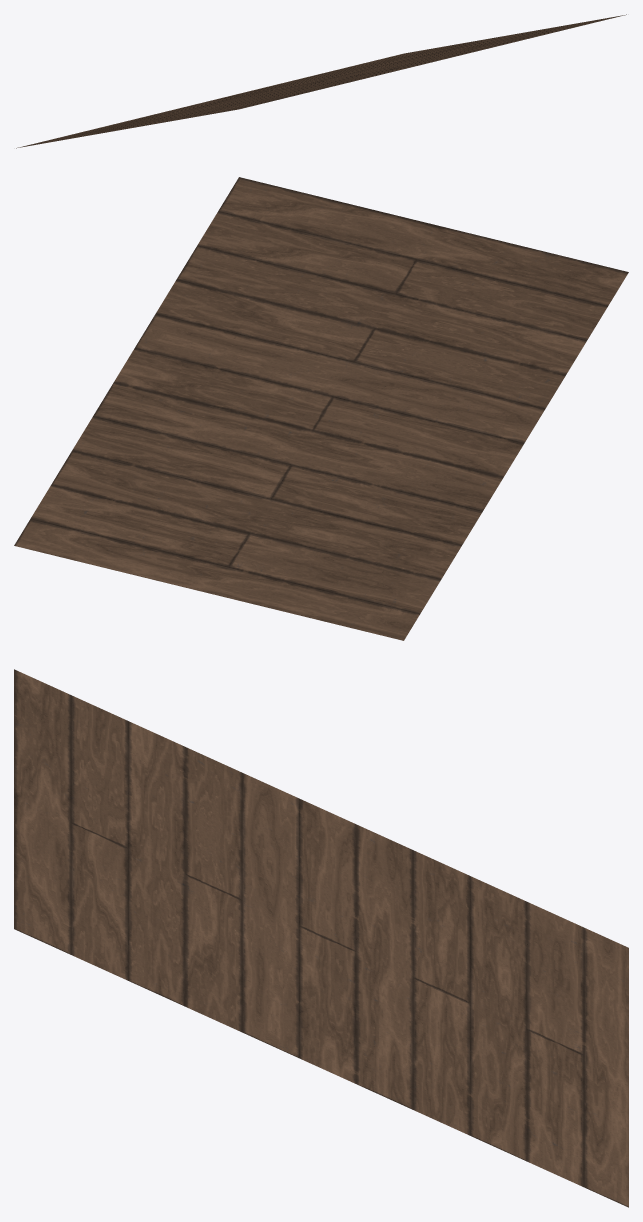
File: Roof_3mH_A_Ceilng.fbx
The picture shows the model from 3 angles, top to bottom: view 1: azimuth 30°, elevation 25°; view 2: azimuth 150°, elevation 25°; view 3: azimuth 270°, elevation 25°; orthographic projection. The views are drawn at different scales.
Parts seen in each view (by area): view 1: Roof_3mH_A_Ceilng; view 2: Roof_3mH_A_Ceilng; view 3: Roof_3mH_A_Ceilng.
Boxes of the visible parts, x1,y1,x2,y2 form: Roof_3mH_A_Ceilng: (16,14,626,148); Roof_3mH_A_Ceilng: (14,177,628,640); Roof_3mH_A_Ceilng: (14,669,628,1207).
Size of the model in its own units: 6 by 6 by 3.
